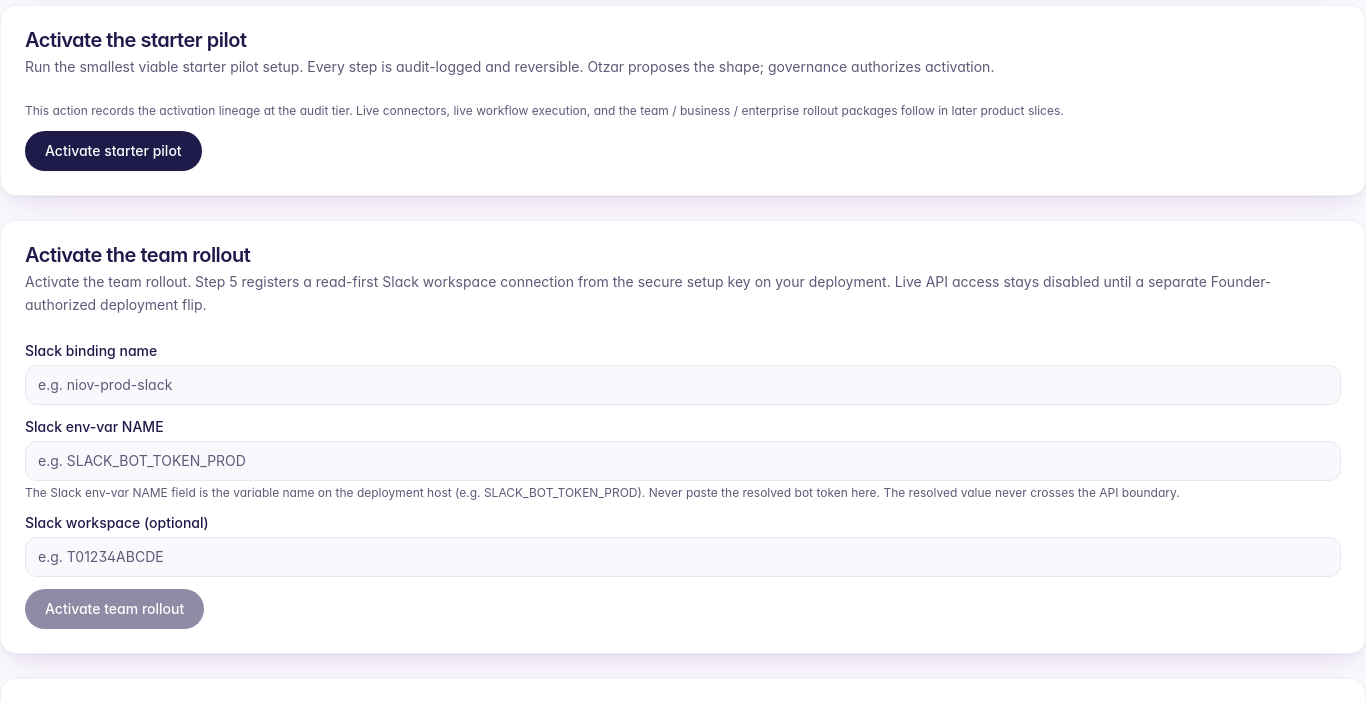
it: D6 team — successful activation › renders archetype + plan_id badges + truncated audit_event_id (no full UUID echoed)
(page scrolled)
In the field with test id "team-slack-display-name-input": (683,384) [25,364,1341,404], type "niov-prod-slack"
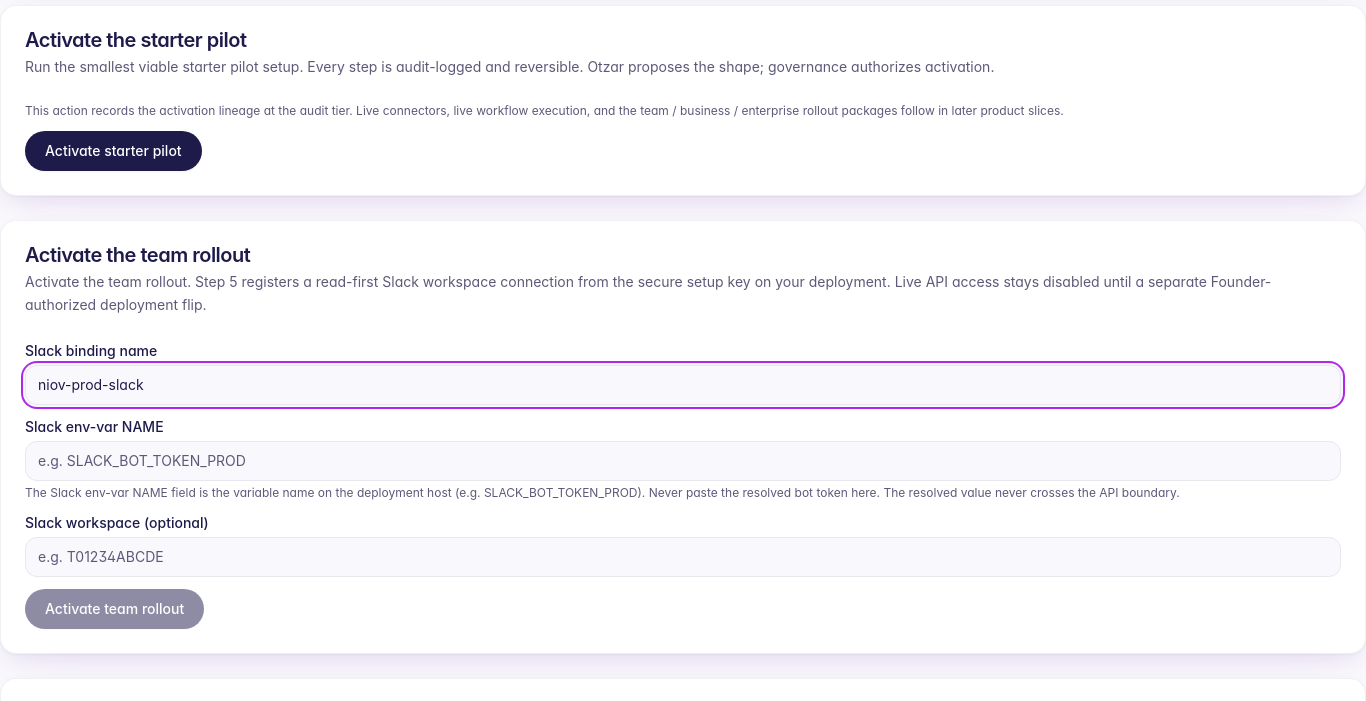
In the field with test id "team-slack-secret-ref-input": (683,460) [25,440,1341,480], type "SLACK_BOT_TOKEN_PROD"
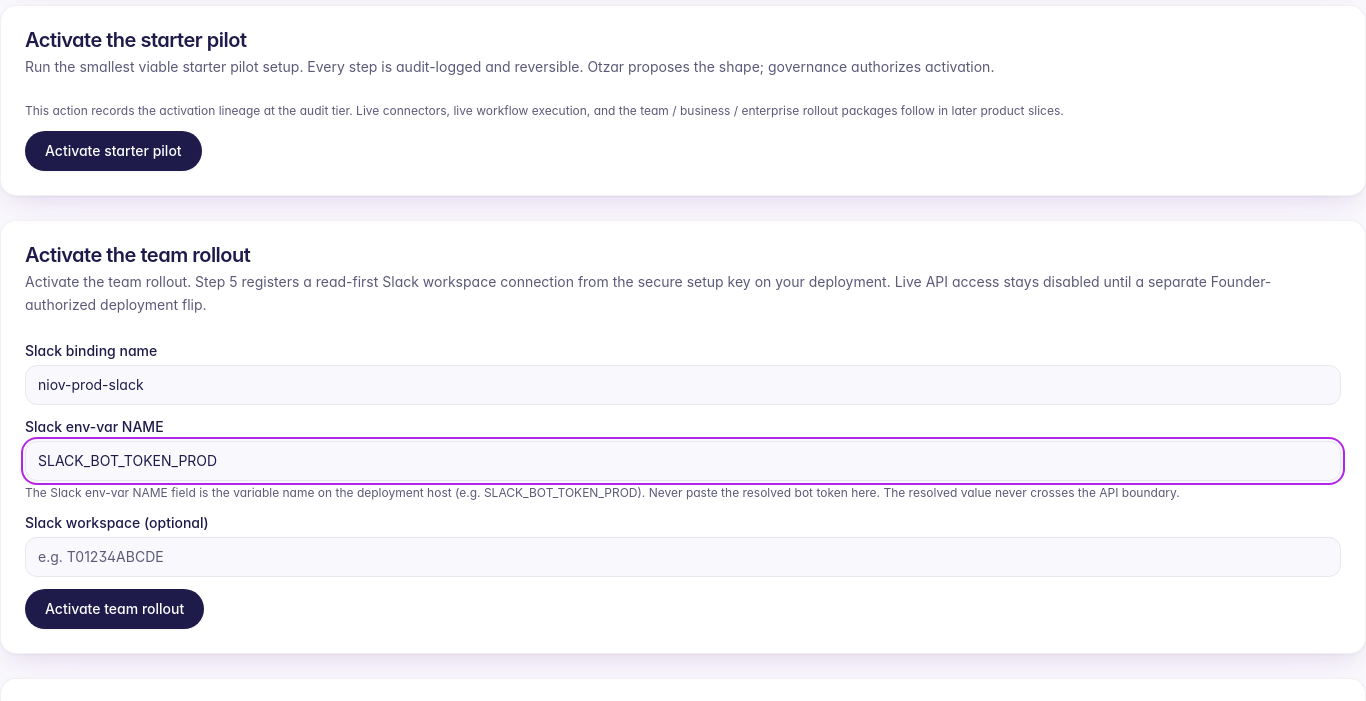
Click the button with test id "activate-team-button": (115,608) [25,588,204,628]
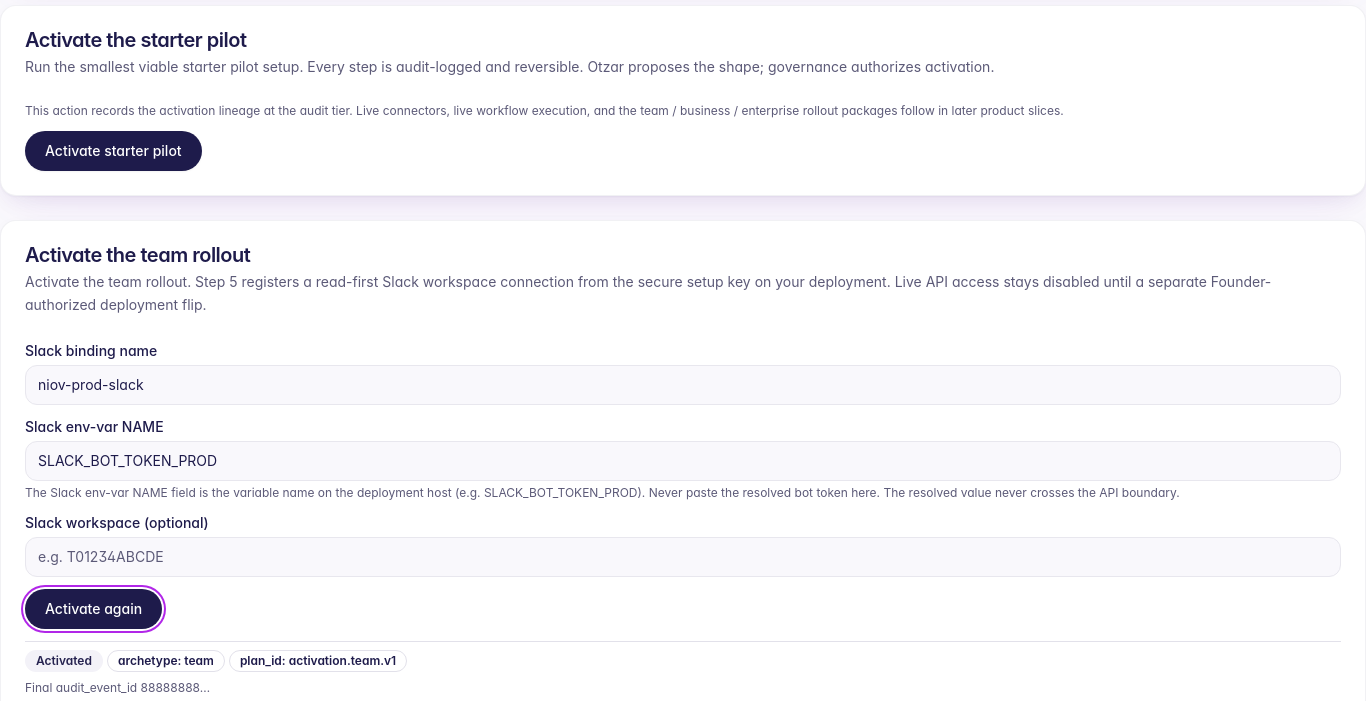
Expected: the text "archetype: team" is shown, [107,650,225,672]
Expected: the text "plan_id: activation.team.v1" is shown, [229,650,407,672]
Expected: the text "Final audit_event_id 88888888…" is shown, [25,680,210,694]
